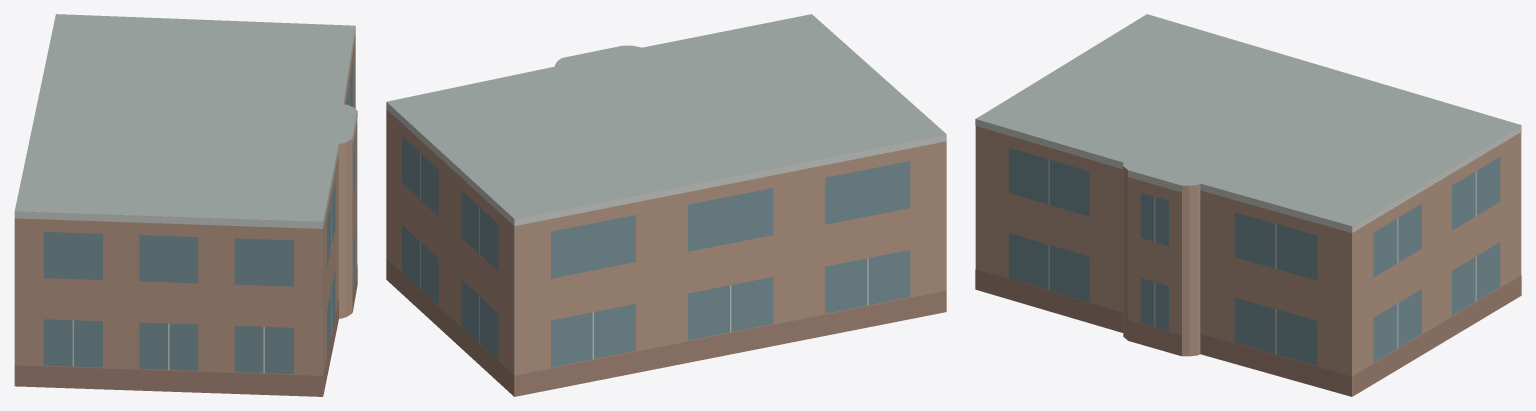
File: survey-upis-32623667.glb
3 views of the same model, side by side, from view 1: azimuth 30°, elevation 25°; view 2: azimuth 150°, elevation 25°; view 3: azimuth 270°, elevation 25° (orthographic). The views are drawn at different scales.
Parts seen in each view (by area): view 1: survey-upis-32623667.tmp; view 2: survey-upis-32623667.tmp; view 3: survey-upis-32623667.tmp.
Part boxes in pixels (x1=…): survey-upis-32623667.tmp: x1=14, y1=14, x2=357, y2=396; survey-upis-32623667.tmp: x1=386, y1=14, x2=946, y2=396; survey-upis-32623667.tmp: x1=975, y1=14, x2=1521, y2=396.
Bounding box in the file's own units: 16.29 × 6.1 × 17.7.
